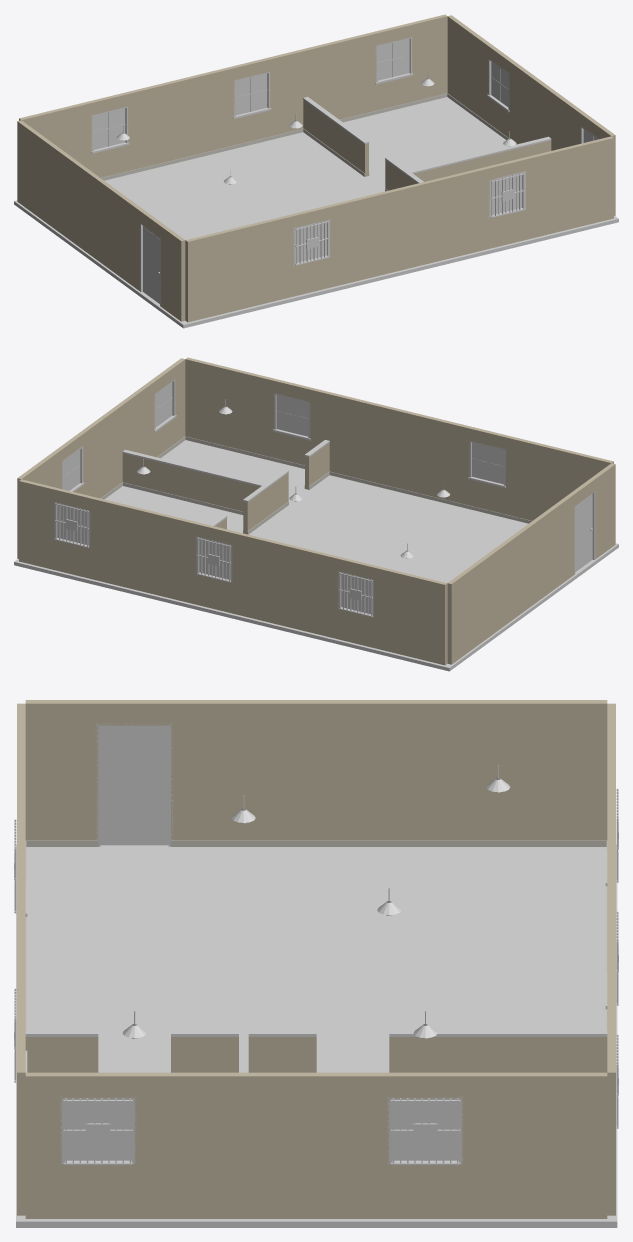
File: room-flat-ceramic.glb
3 renders of one model, top to bottom at view 1: azimuth 30°, elevation 25°; view 2: azimuth 150°, elevation 25°; view 3: azimuth 270°, elevation 25°, orthographic. The views are drawn at different scales.
Parts seen in each view (by area): view 1: wall_front, wall_back, floor, wall_left, wall_right, partition, room-flat-ceramic, glass_wall_back, glass_wall_front, glass_wall_right; view 2: wall_back, wall_front, floor, wall_left, wall_right, partition, room-flat-ceramic, glass_wall_back, glass_wall_front, glass_wall_right; view 3: floor, wall_left, wall_right, partition, room-flat-ceramic, glass_wall_right, wall_back, wall_front.
Part boxes in pixels (x1,y1,x2,y2): wall_front: (185,136,613,322); wall_back: (19,14,447,180); floor: (104,97,507,239); wall_left: (17,120,185,321); wall_right: (447,15,615,215); partition: (303,97,551,191); room-flat-ceramic: (14,71,618,328); glass_wall_back: (94,39,409,149); glass_wall_front: (296,175,522,262); glass_wall_right: (491,62,597,142); wall_back: (19,479,447,665); wall_front: (185,357,613,523); floor: (104,440,528,582); wall_left: (447,463,615,664); wall_right: (17,358,185,558); partition: (122,440,329,534); room-flat-ceramic: (14,399,618,671); glass_wall_back: (57,505,372,614); glass_wall_front: (276,395,503,484); glass_wall_right: (63,382,172,490); floor: (26,846,606,1072); wall_left: (25,700,607,846); wall_right: (25,1072,607,1218); partition: (25,1030,607,1072); room-flat-ceramic: (16,765,617,1227); glass_wall_right: (65,1102,458,1160); wall_back: (605,703,618,1215); wall_front: (14,703,27,1215).
Bounding box in the file's own units: 14.75 × 2.75 × 9.98.
